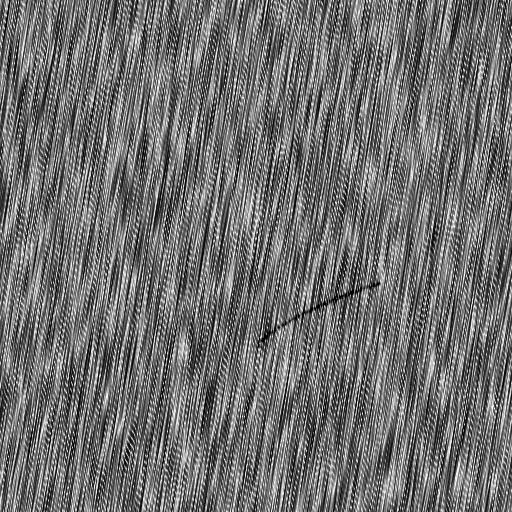DefectTypeC: (260, 282, 382, 343)
